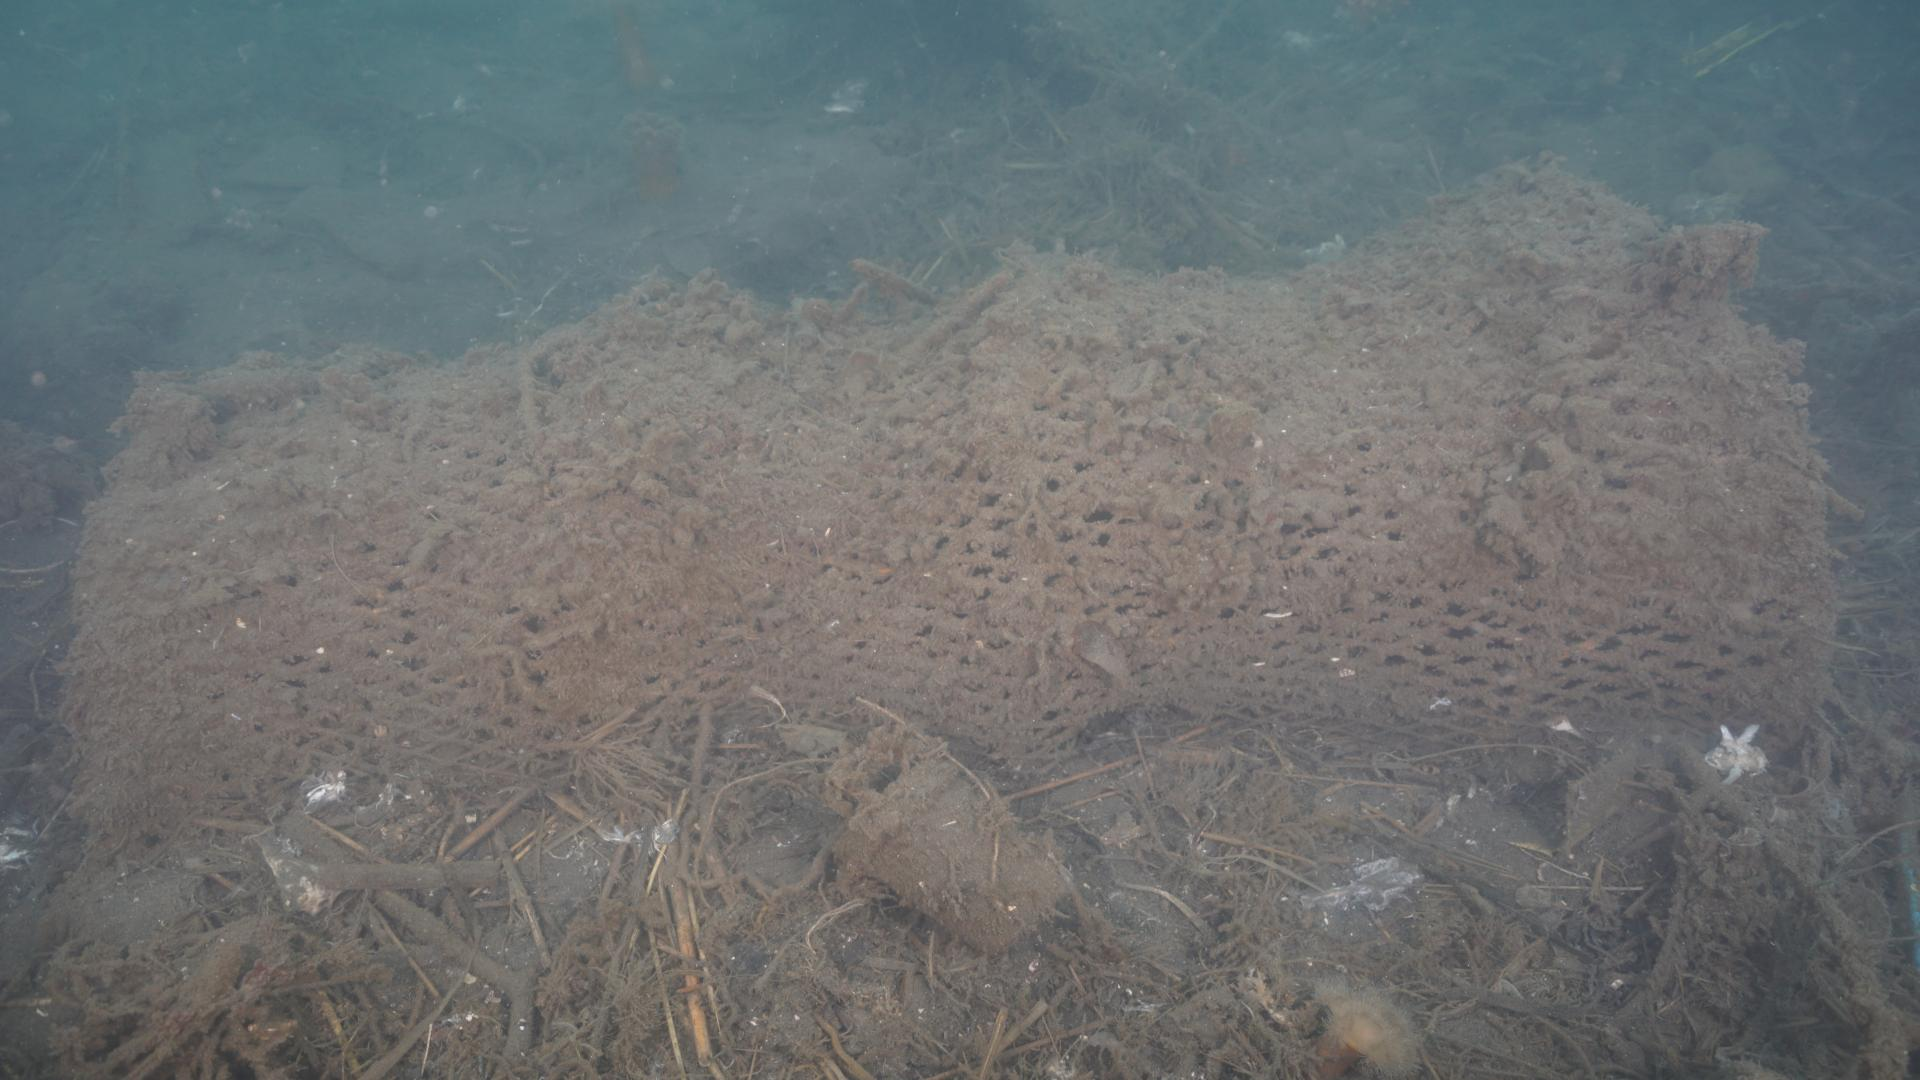spring fish trap: (69, 160, 1846, 798)
